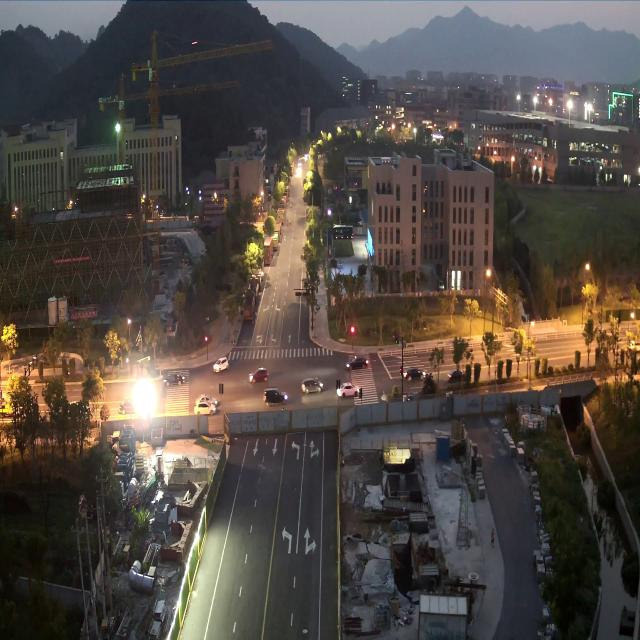UAV: (184, 40, 197, 45)
